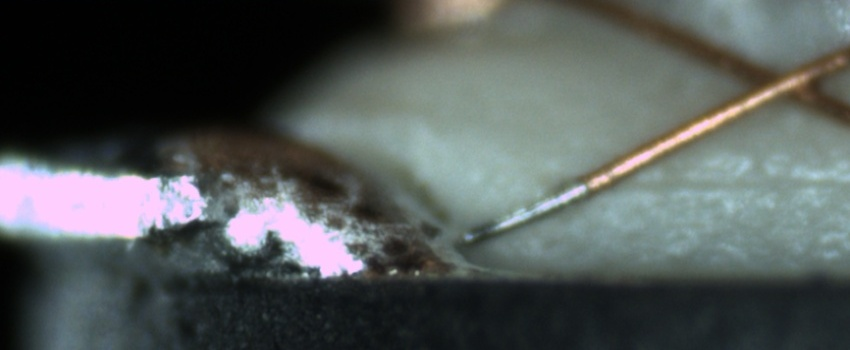CL: (719, 47, 831, 117)
DL: (616, 153, 850, 217)
TS: (453, 181, 587, 242)
